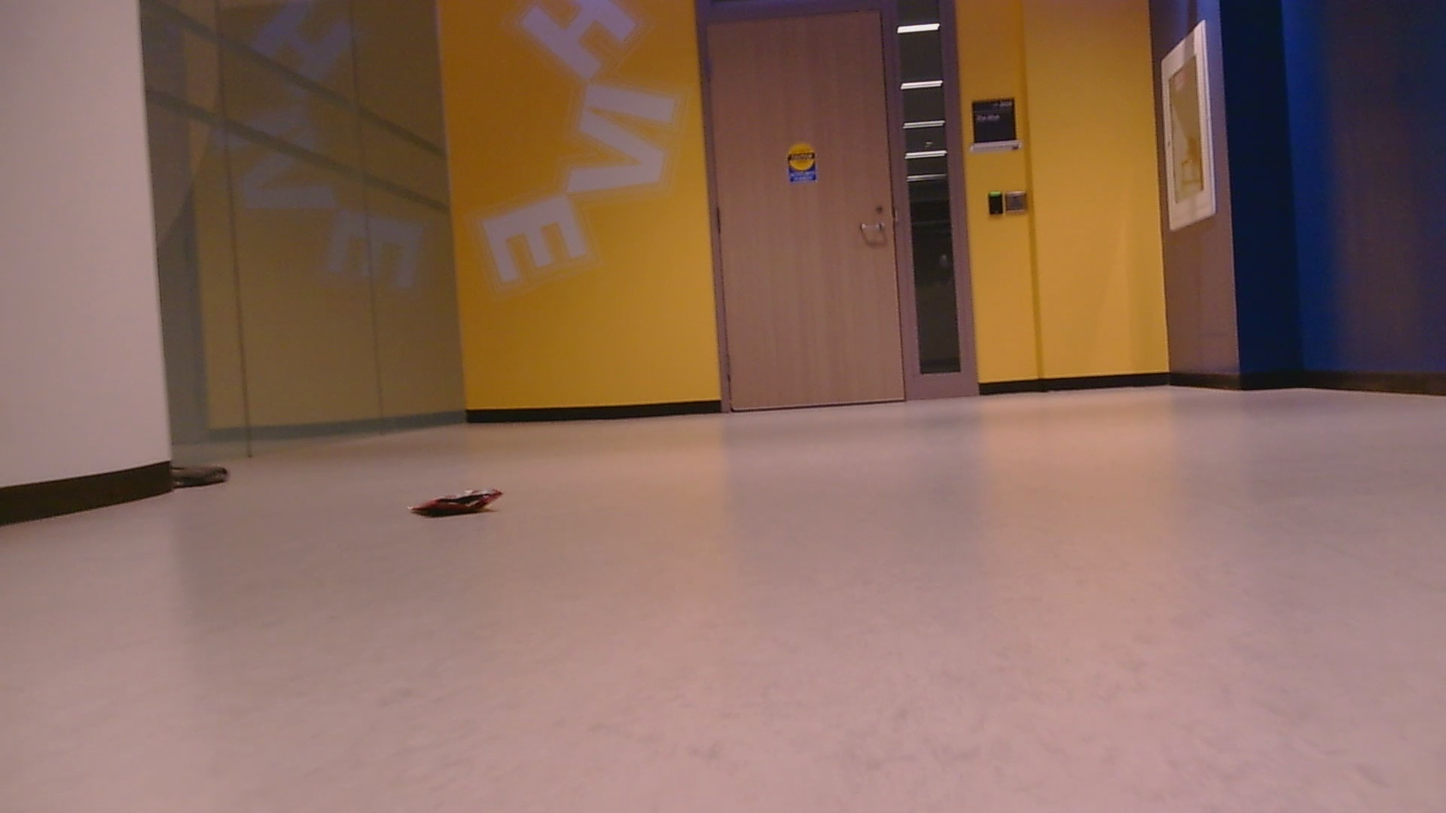can: (408, 488, 504, 519), (169, 460, 230, 491)
